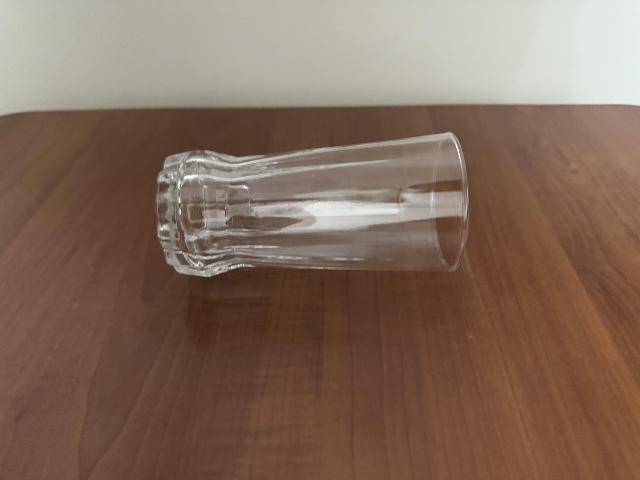Cam: (154, 129, 471, 283)
